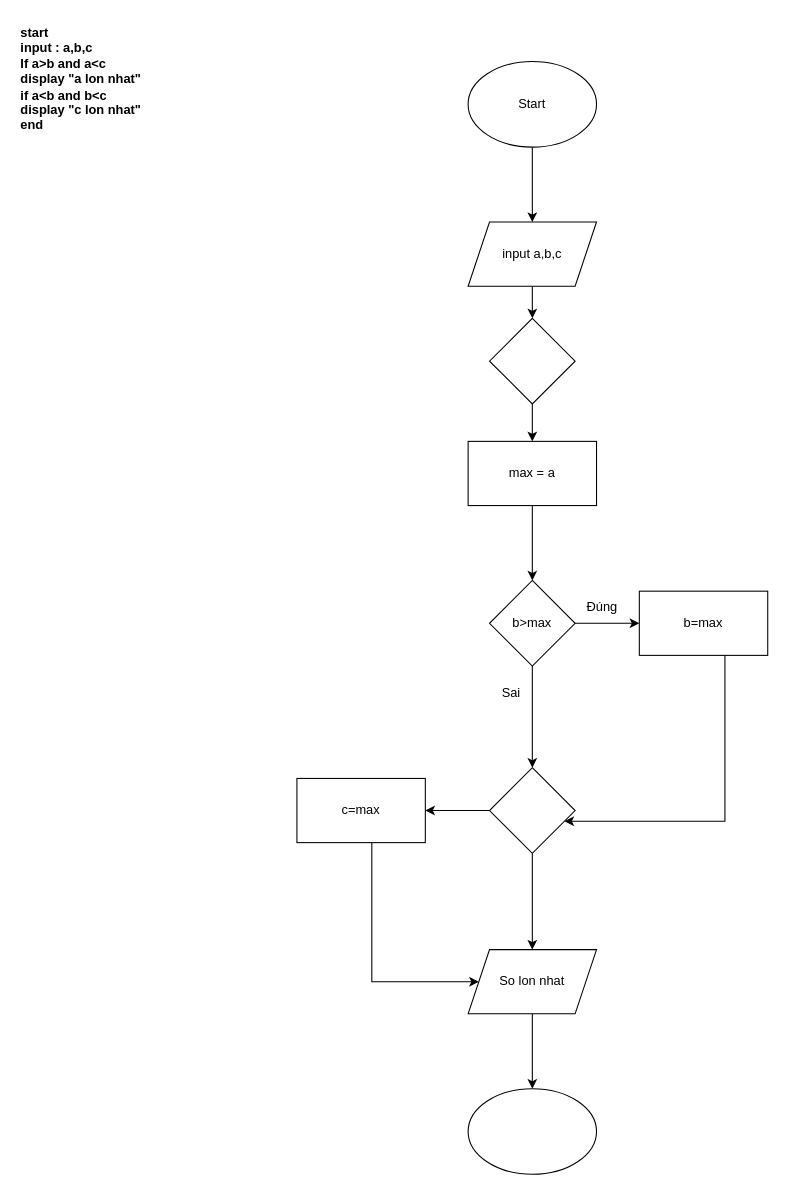
This 786x1193 diagram has some shape labels left out. Each missing label, with the centre of its shape:
a>b and a>c: pixel 531 360
c>b: pixel 531 810
End: pixel 532 1131
